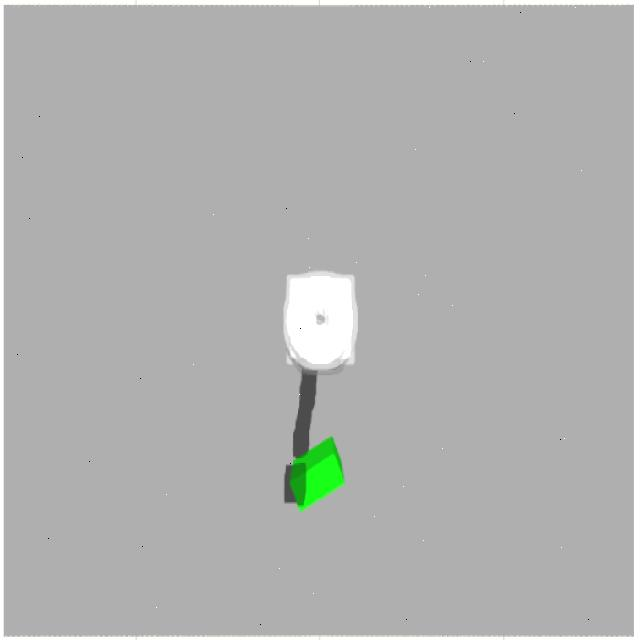box: (287, 437, 343, 510)
